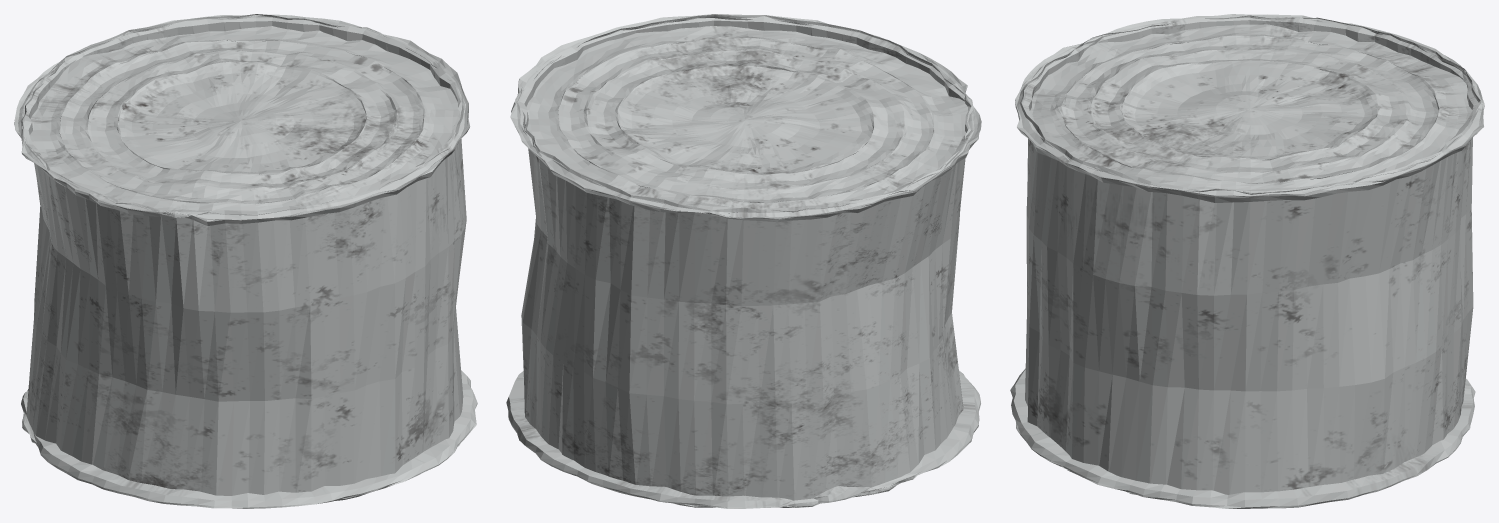
Rendered from crush_medium_0.obj.
3 views of the same model, side by side, from view 1: azimuth 30°, elevation 25°; view 2: azimuth 150°, elevation 25°; view 3: azimuth 270°, elevation 25° (orthographic). The views are drawn at different scales.
Visible parts, largest first — view 1: Cam_l__0; view 2: Cam_l__0; view 3: Cam_l__0.
Part boxes in pixels (box(x1,y1,x2,y2)): Cam_l__0: box(14, 14, 477, 508); Cam_l__0: box(506, 14, 981, 508); Cam_l__0: box(1010, 14, 1484, 508).
Size of the model in its own units: 0.0949 by 0.069 by 0.0942.
Materials: 1 (1 with a texture image).
